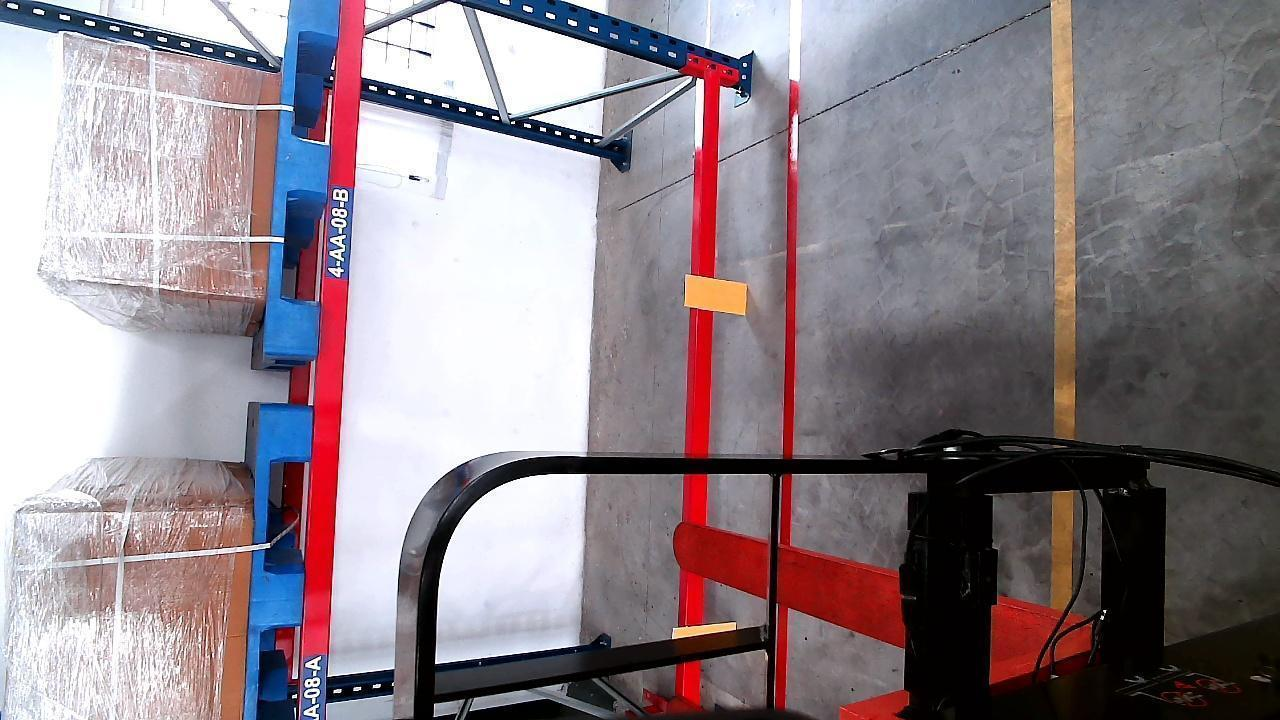red_line: (779, 15, 805, 713)
yellow_line: (1050, 0, 1078, 603)
